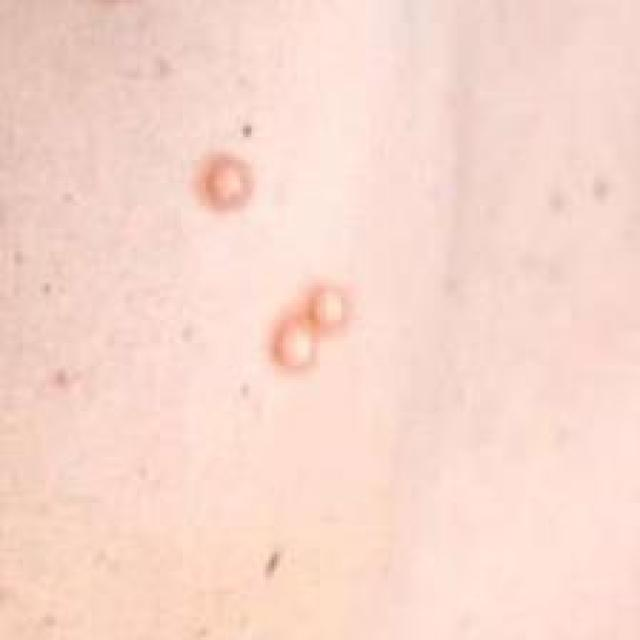monkeypox: (31, 18, 512, 611)
